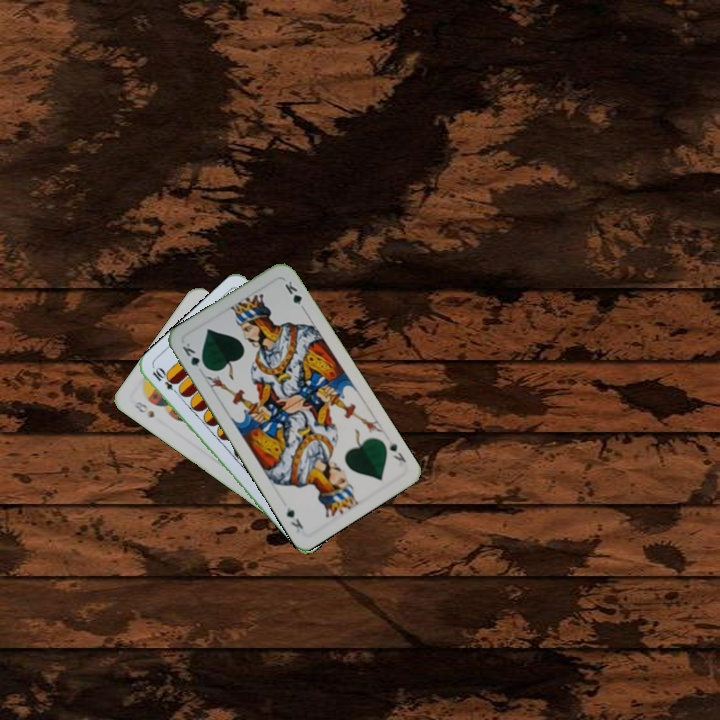E10: (148, 364, 183, 398)
GK: (178, 338, 210, 372), (385, 437, 409, 465)
S8: (129, 397, 157, 421)
